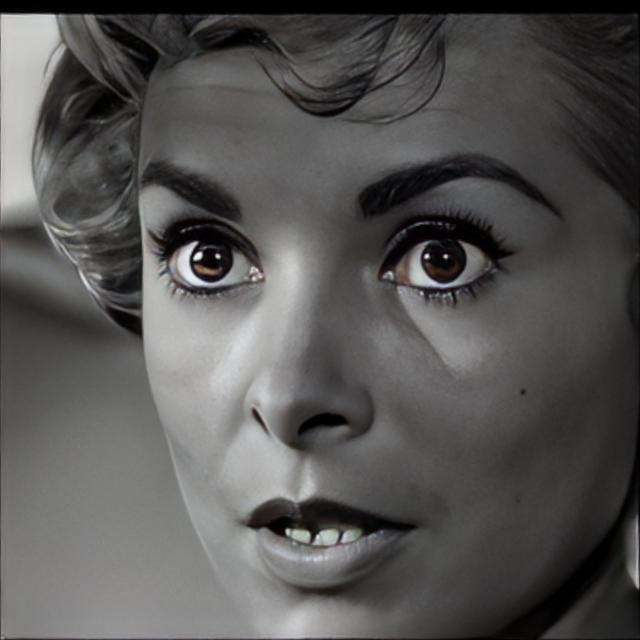surprise: (135, 18, 639, 640)
